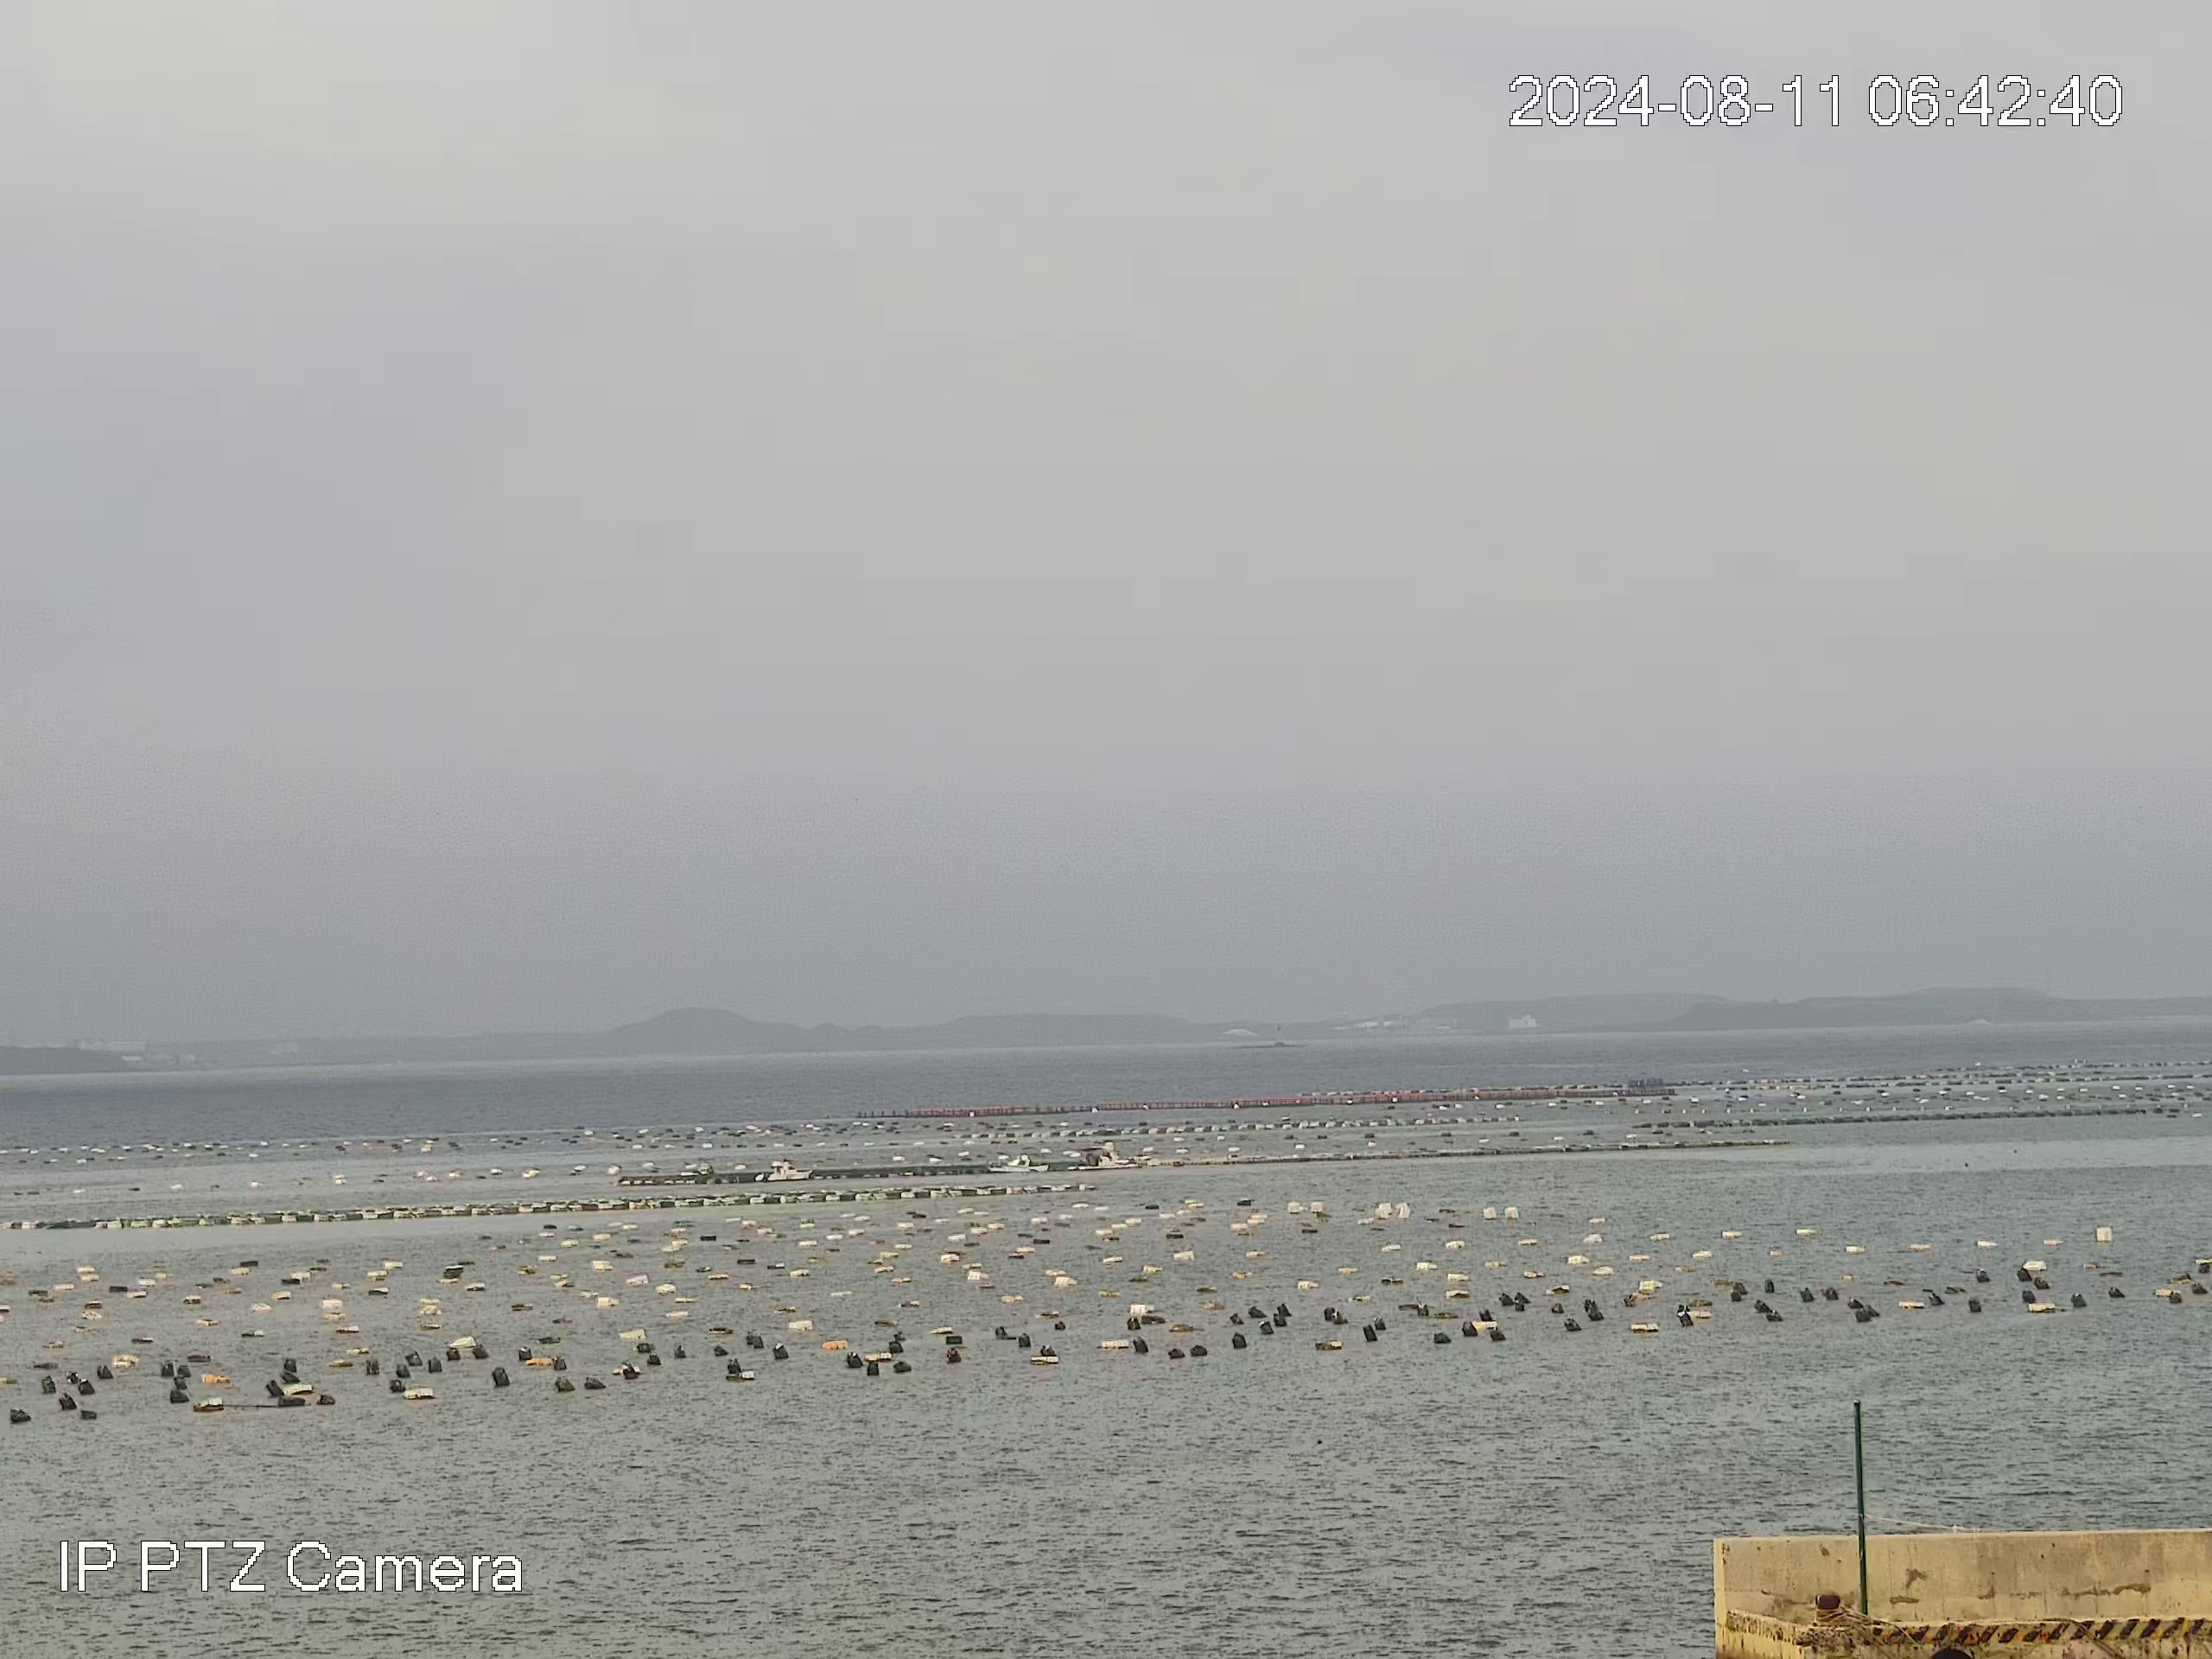boat: (752, 1159, 813, 1185), (988, 1150, 1050, 1175), (1066, 1152, 1120, 1173)
